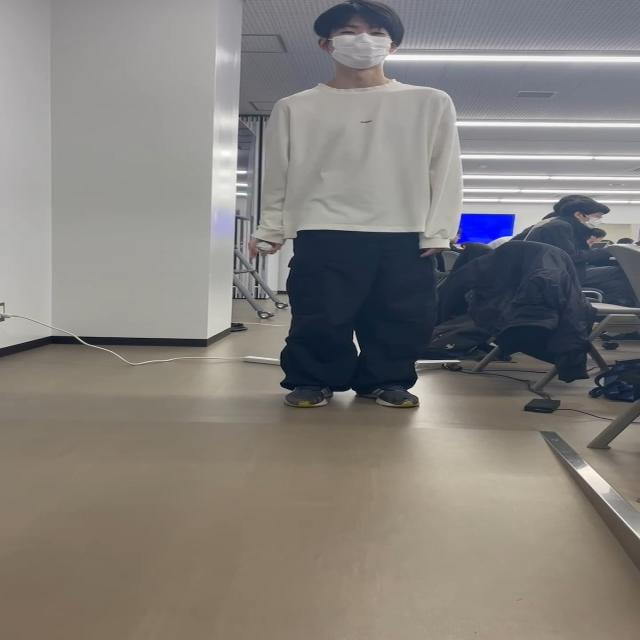paper: (255, 240, 276, 256)
